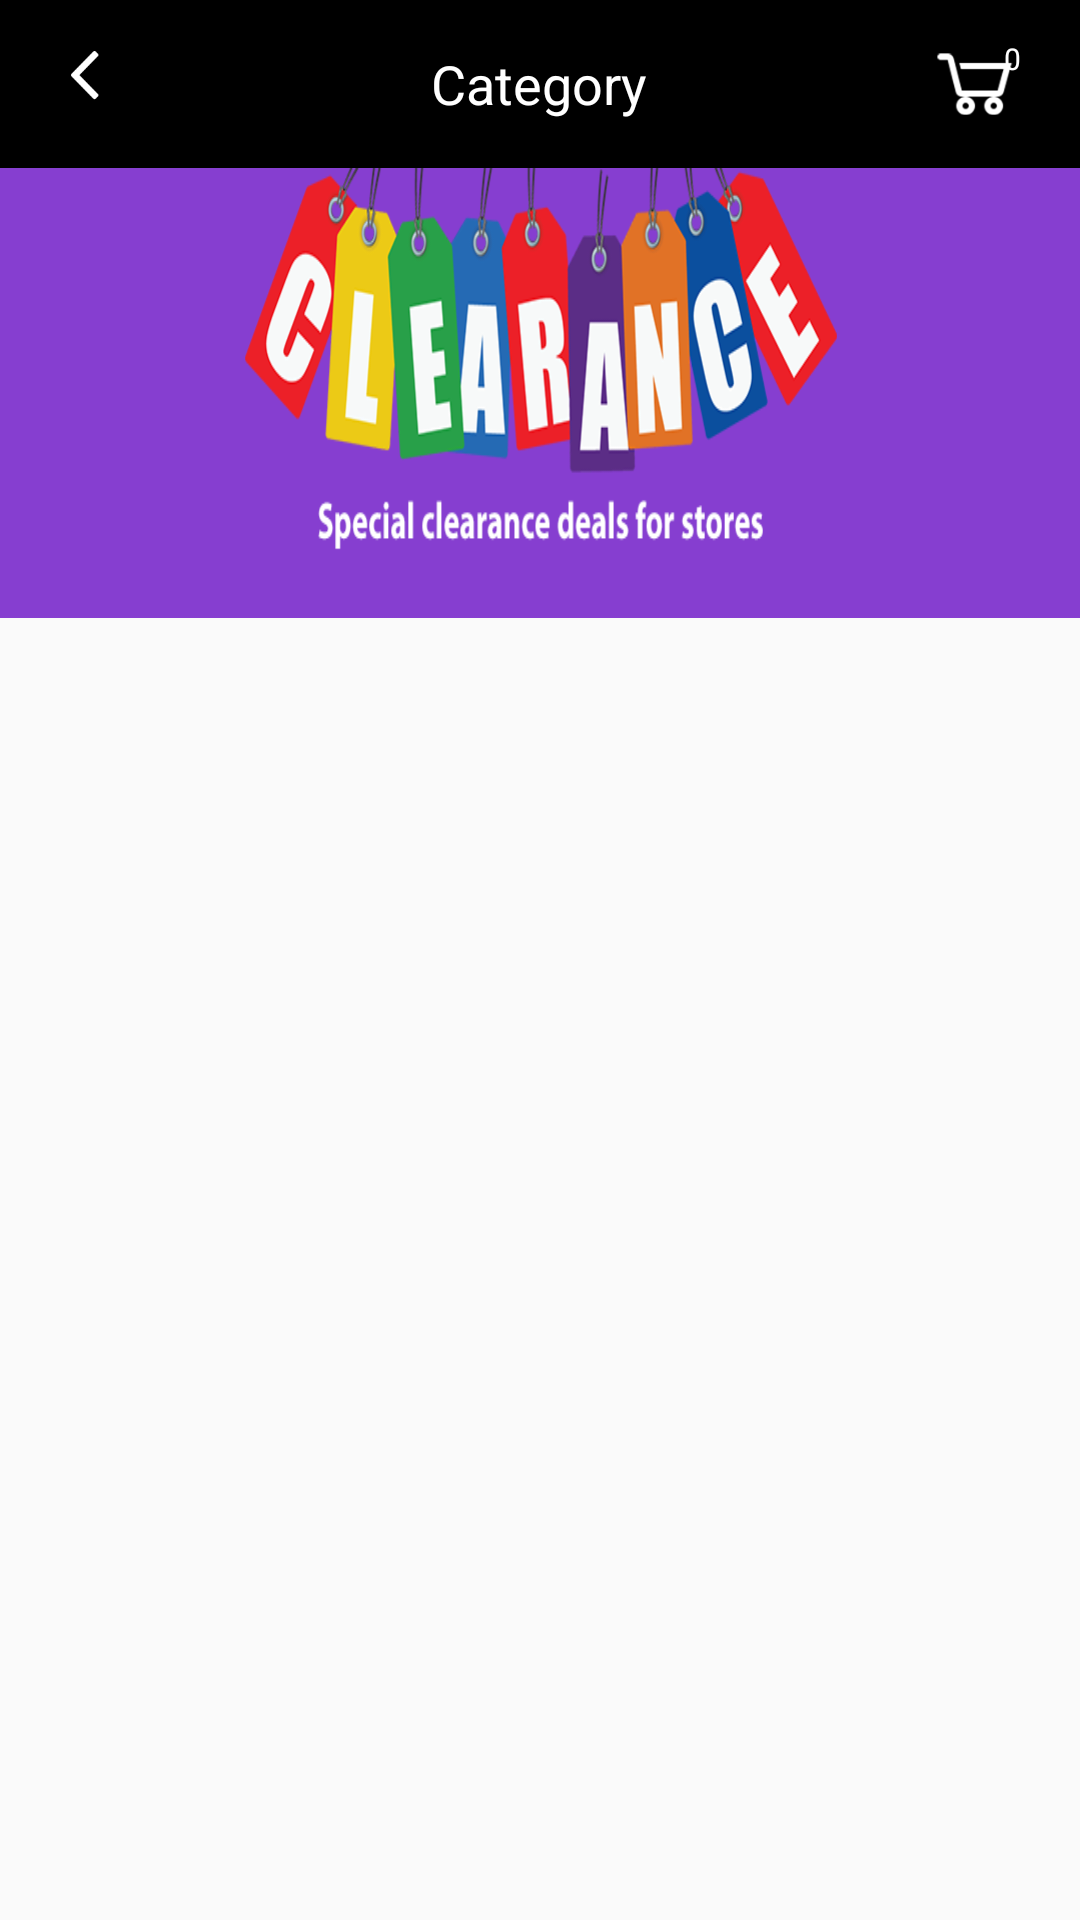

Icons on this 1080 x 1920 Android screen, each with the point to tap as point (x, y):
back: point (85, 75)
cart: point (978, 81)
